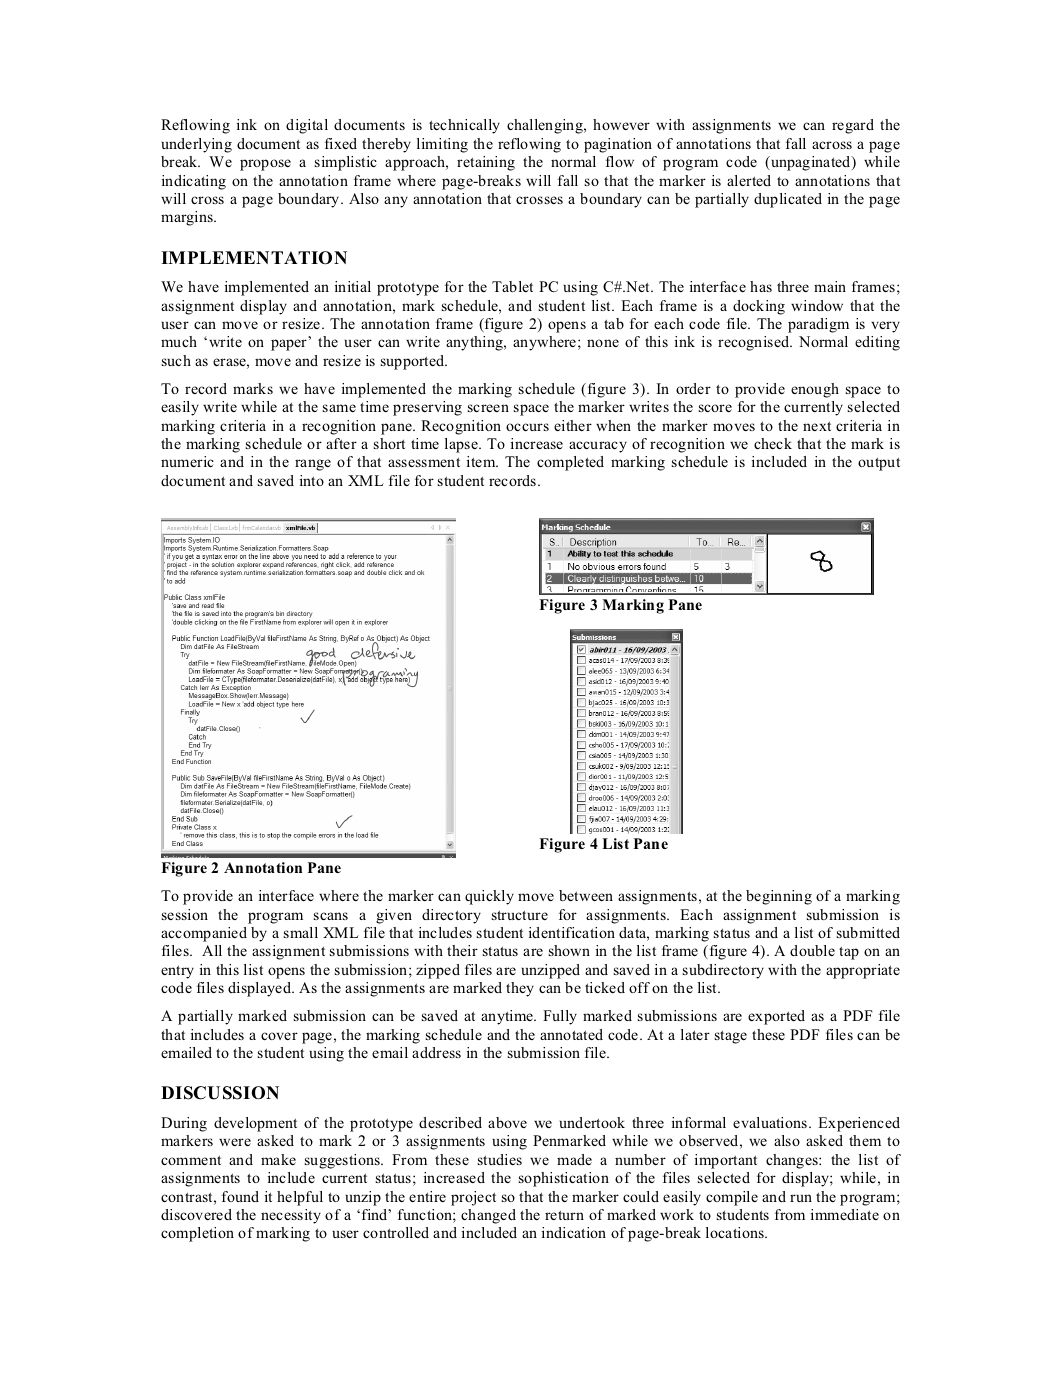figure: (160, 518, 455, 857), (539, 517, 873, 595), (570, 629, 682, 834)
